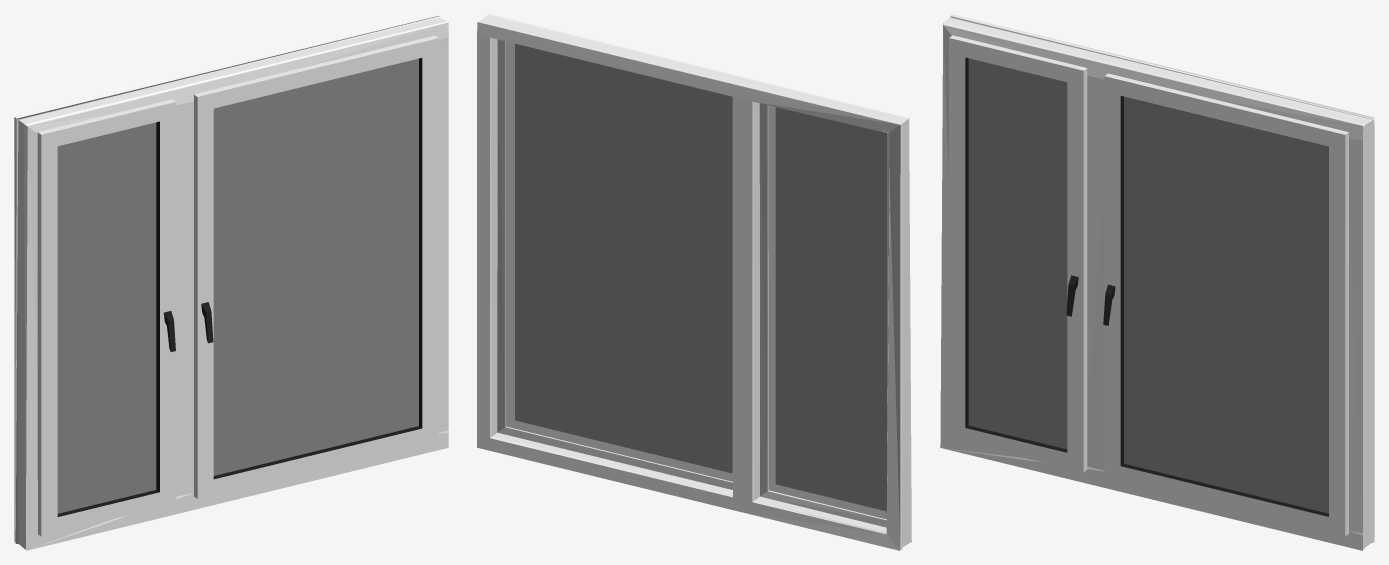
The model's file is Window.fbx.
3 views of the same model, side by side, from view 1: azimuth 30°, elevation 25°; view 2: azimuth 150°, elevation 25°; view 3: azimuth 330°, elevation 25° (orthographic).
Visible parts, largest first — view 1: window B, window A, window frame; view 2: window B, window frame, window A; view 3: window B, window A, window frame.
Boxes of the visible parts, x1=… form: window B: x1=194, y1=35, x2=438, y2=498; window A: x1=37, y1=99, x2=176, y2=536; window frame: x1=14, y1=14, x2=448, y2=550; window B: x1=506, y1=41, x2=732, y2=481; window frame: x1=477, y1=14, x2=911, y2=550; window A: x1=768, y1=105, x2=888, y2=519; window B: x1=1103, y1=73, x2=1348, y2=536; window A: x1=949, y1=35, x2=1087, y2=472; window frame: x1=940, y1=14, x2=1374, y2=550.
Bounding box in the file's own units: 151 × 146 × 13.13.
Materials: 2 (1 with a texture image).
